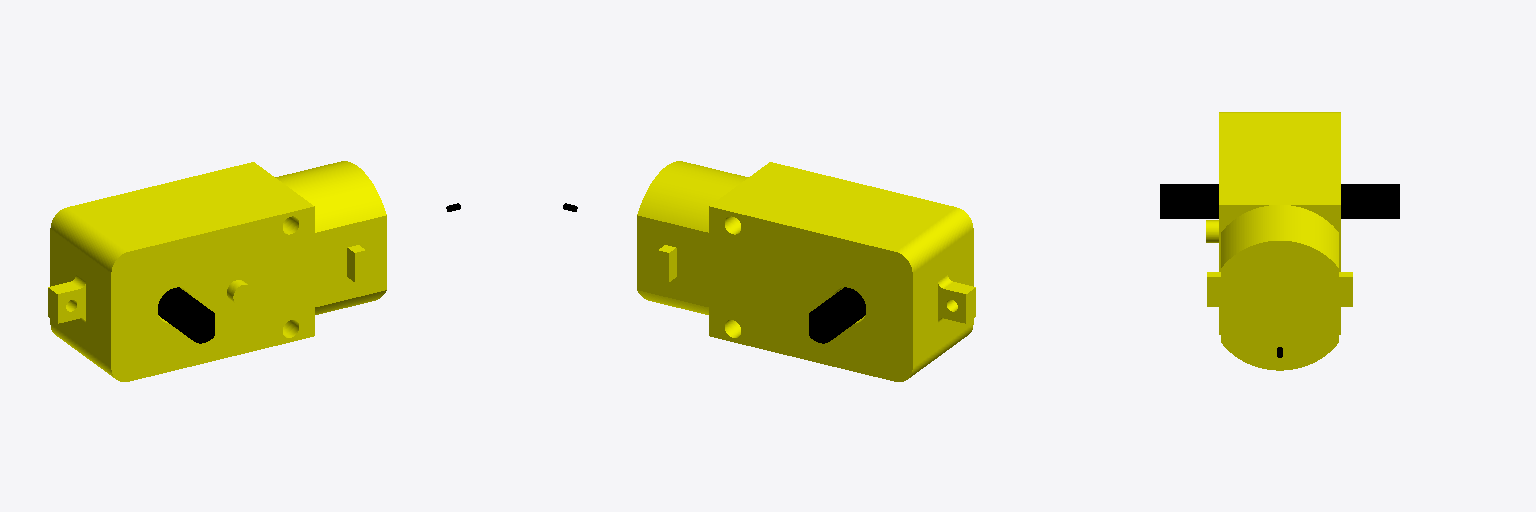
The model's file is yellow_motor.obj.
The picture shows the model from 3 angles: view 1: azimuth 30°, elevation 25°; view 2: azimuth 150°, elevation 25°; view 3: azimuth 270°, elevation 25°; orthographic projection.
Parts seen in each view (by area): view 1: yellow_motor; view 2: yellow_motor; view 3: yellow_motor.
Part boxes in pixels (bbox=[...]): yellow_motor: bbox=[48, 161, 460, 381]; yellow_motor: bbox=[563, 161, 975, 381]; yellow_motor: bbox=[1160, 112, 1399, 370].
Bounding box in the file's own units: 72 × 22 × 36.8.